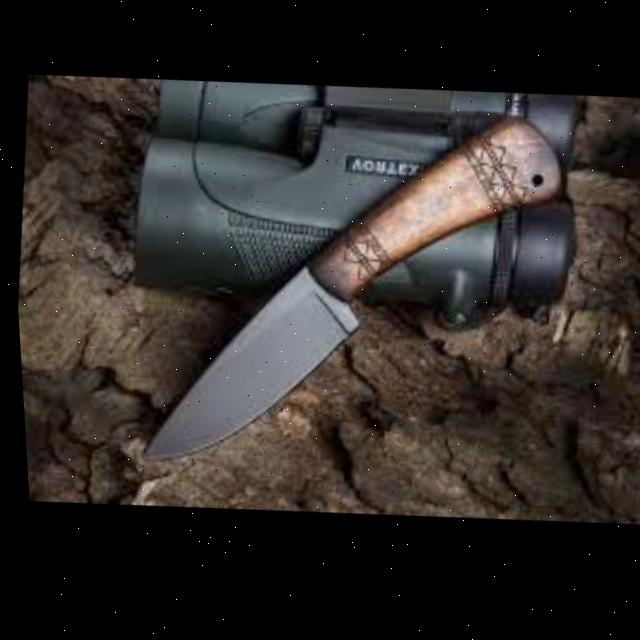Knife: (119, 59, 599, 506)
